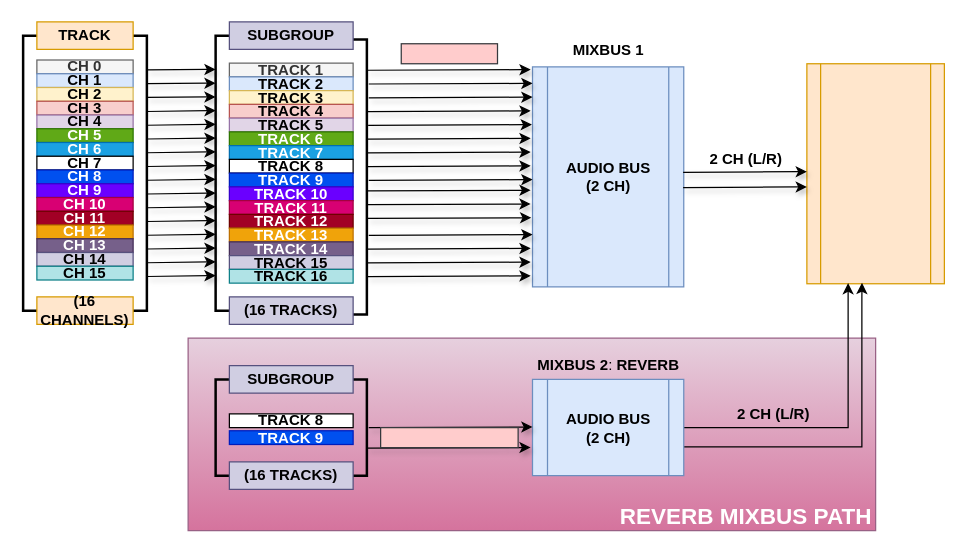
The diagram is 966 pixels wide and 553 high, and some of its shapes have lost their labels. The centre of each missing label's shape, as x and y in pixels:
AUX SEND 1: the point at 449,53
AUX SEND 2: the point at 448,437
MASTER BUS: the point at 875,173
